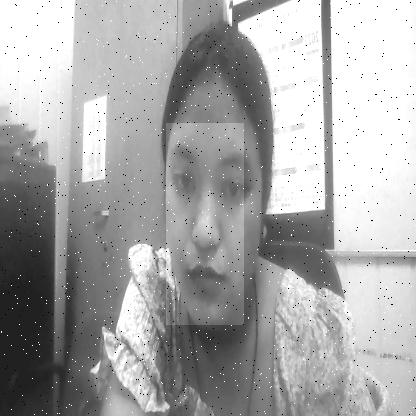Normal: (166, 123, 244, 325)
